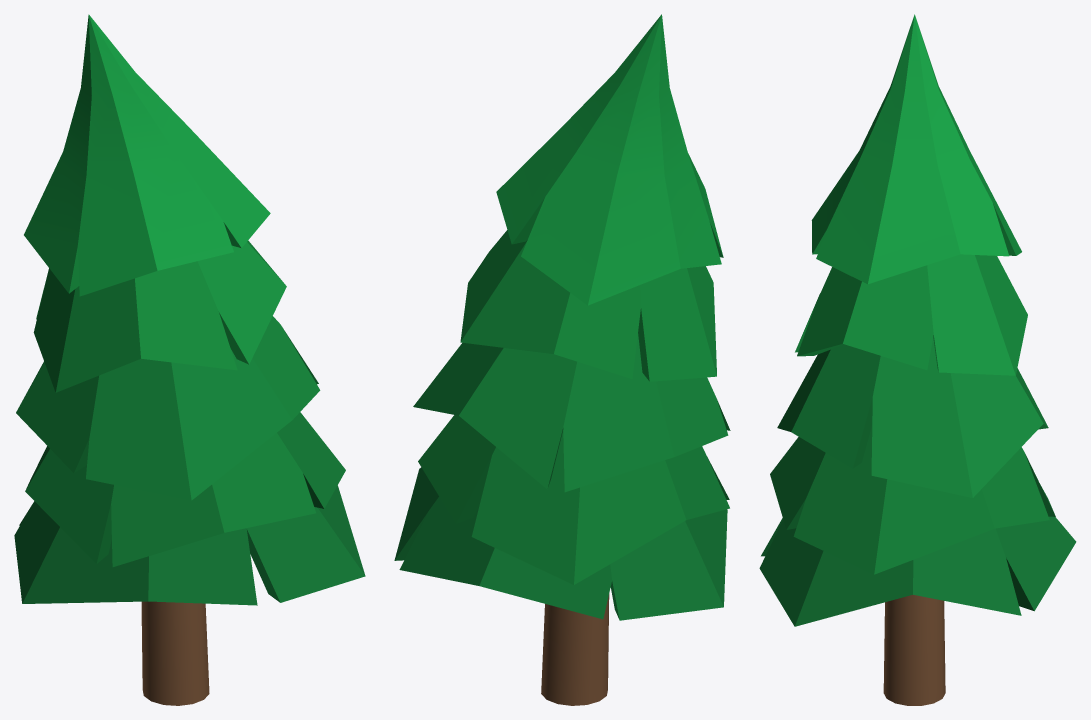
The model's file is Spruce_DarkGreen_2.fbx.
3 views of the same model, side by side, from view 1: azimuth 30°, elevation 25°; view 2: azimuth 150°, elevation 25°; view 3: azimuth 270°, elevation 25° (orthographic). The views are drawn at different scales.
Visible parts, largest first — view 1: Cylinder.035, Cylinder.036, Cylinder.037, Cylinder.039, Cylinder.038, Cylinder.040; view 2: Cylinder.035, Cylinder.036, Cylinder.038, Cylinder.037, Cylinder.039, Cylinder.040; view 3: Cylinder.035, Cylinder.036, Cylinder.038, Cylinder.037, Cylinder.039, Cylinder.040.
Boxes of the visible parts, <box> form: Cylinder.035: <box>24,14,270,296</box>; Cylinder.036: <box>16,316,320,500</box>; Cylinder.037: <box>33,240,286,392</box>; Cylinder.039: <box>14,485,365,605</box>; Cylinder.038: <box>25,412,345,566</box>; Cylinder.040: <box>141,601,209,705</box>; Cylinder.035: <box>496,14,723,305</box>; Cylinder.036: <box>413,334,730,492</box>; Cylinder.038: <box>418,415,729,584</box>; Cylinder.037: <box>460,230,716,381</box>; Cylinder.039: <box>394,467,727,620</box>; Cylinder.040: <box>541,594,609,705</box>; Cylinder.035: <box>811,14,1021,284</box>; Cylinder.036: <box>777,337,1048,497</box>; Cylinder.038: <box>770,425,1055,574</box>; Cylinder.037: <box>795,254,1027,375</box>; Cylinder.039: <box>759,516,1076,626</box>; Cylinder.040: <box>883,595,945,705</box>.
Bounding box in the file's own units: 262 × 568 × 255.
